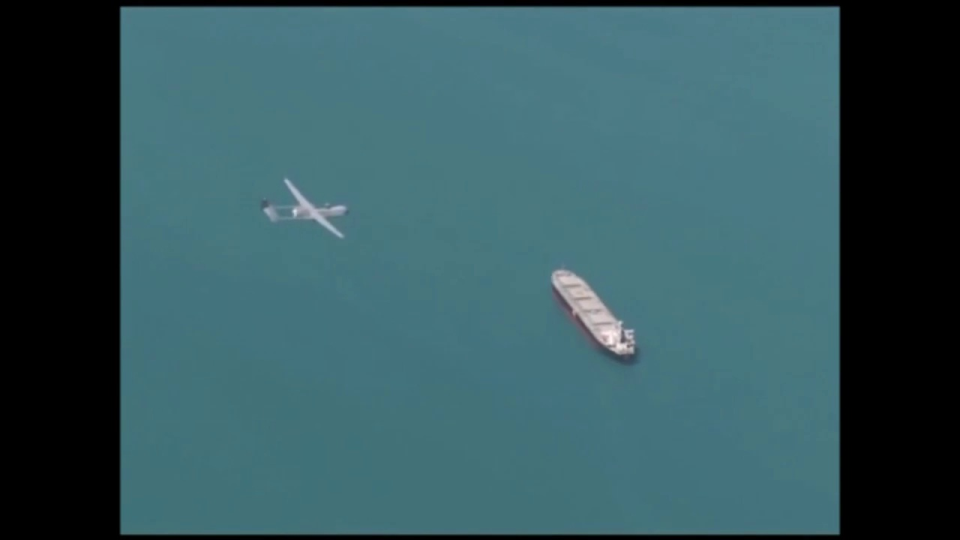military drone: (260, 177, 350, 239)
